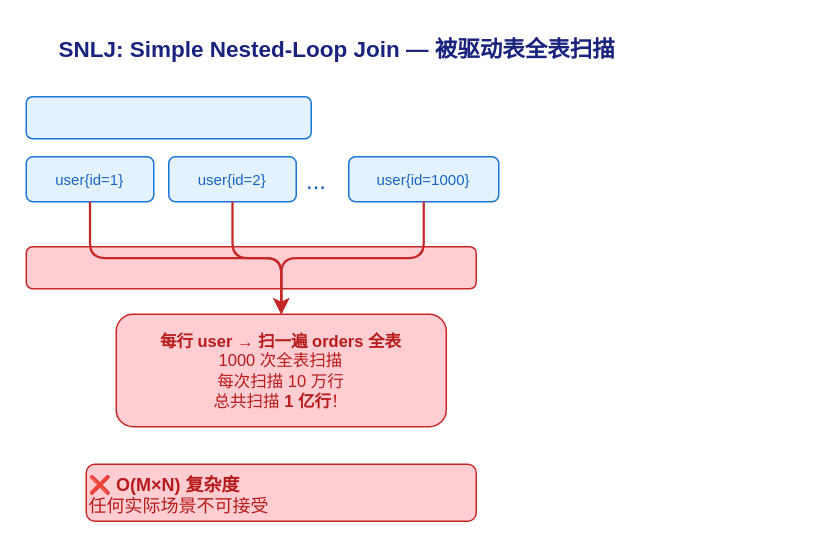
Some shapes in this 833 by 548 pixel diagram are drawn without their labels. Here are the shapes that lost their labels. From the top down, the centre of each, then its label:
At pixel 168 117: "驱动表 users (1000行)".
At pixel 250 267: "被驱动表 orders (10万行) — 无索引".
